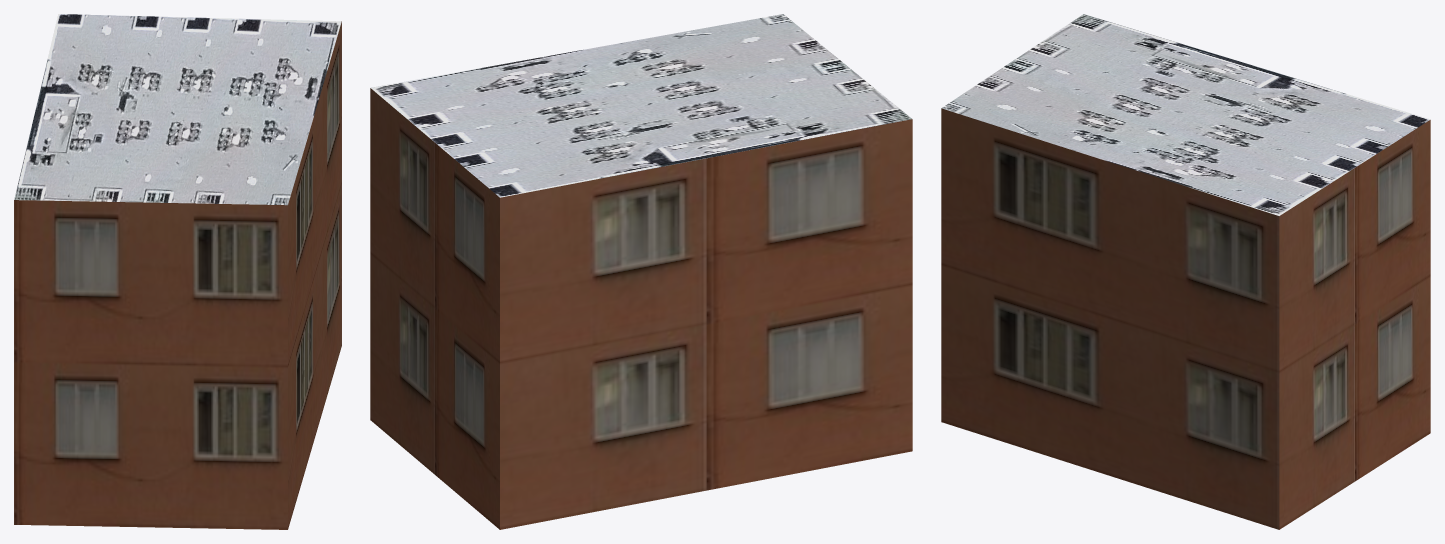
The model's file is ResTex__4105.fbx.
3 renders of one model, left to right at view 1: azimuth 30°, elevation 25°; view 2: azimuth 150°, elevation 25°; view 3: azimuth 270°, elevation 25°, orthographic. The views are drawn at different scales.
Visible parts, largest first — view 1: CityEngineMaterial_20_m, CityEngineMaterial_4_m; view 2: CityEngineMaterial_20_m, CityEngineMaterial_4_m; view 3: CityEngineMaterial_20_m, CityEngineMaterial_4_m.
Boxes of the visible parts, x1,y1,x2,y2 form: CityEngineMaterial_20_m: (14, 21, 341, 529); CityEngineMaterial_4_m: (14, 14, 341, 205); CityEngineMaterial_20_m: (370, 88, 912, 529); CityEngineMaterial_4_m: (371, 14, 912, 197); CityEngineMaterial_20_m: (941, 108, 1430, 529); CityEngineMaterial_4_m: (941, 14, 1430, 215).
Size of the model in its own units: 8.29 by 6 by 8.48.
Materials: 2 (2 with a texture image).
